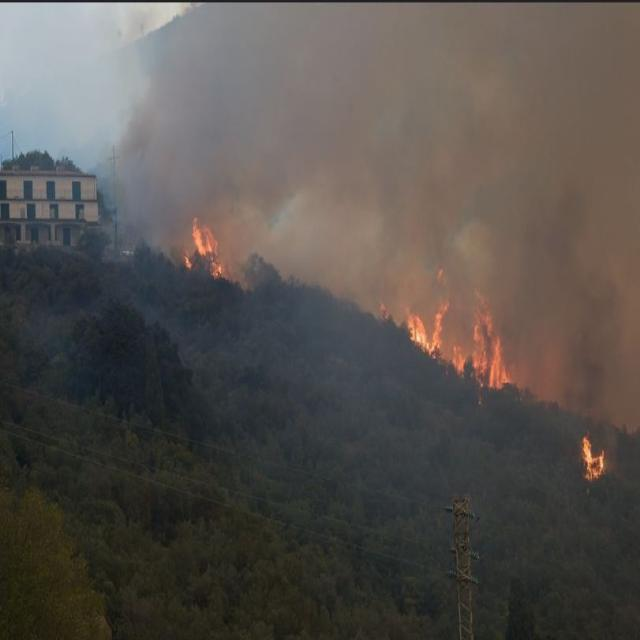Fire: (406, 288, 514, 392), (185, 214, 222, 278), (580, 433, 606, 481)
Smoke: (113, 1, 640, 432)
